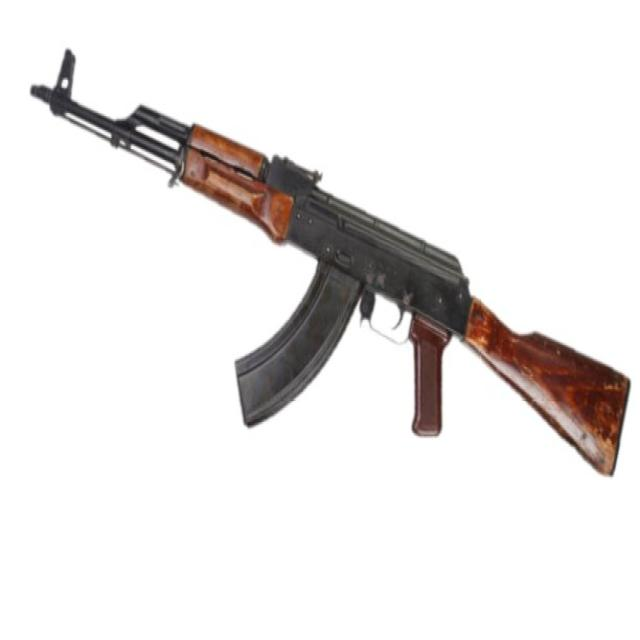rifle: (28, 37, 638, 495)
